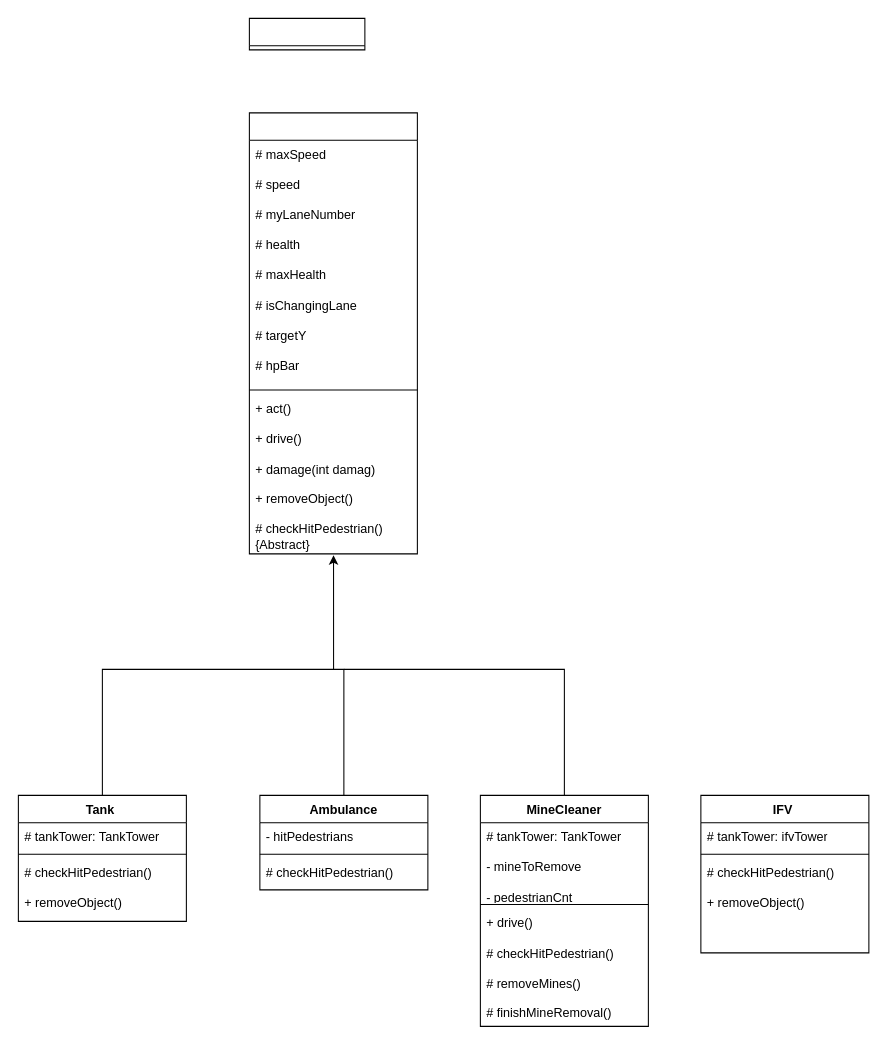
Some shapes in this 887 by 1048 pixel diagram are drawn without their labels. Each missing label, with the box of its shape:
Vehicle {Abstract}: (248, 112, 417, 554)
VehicleWorld: (248, 17, 365, 50)
